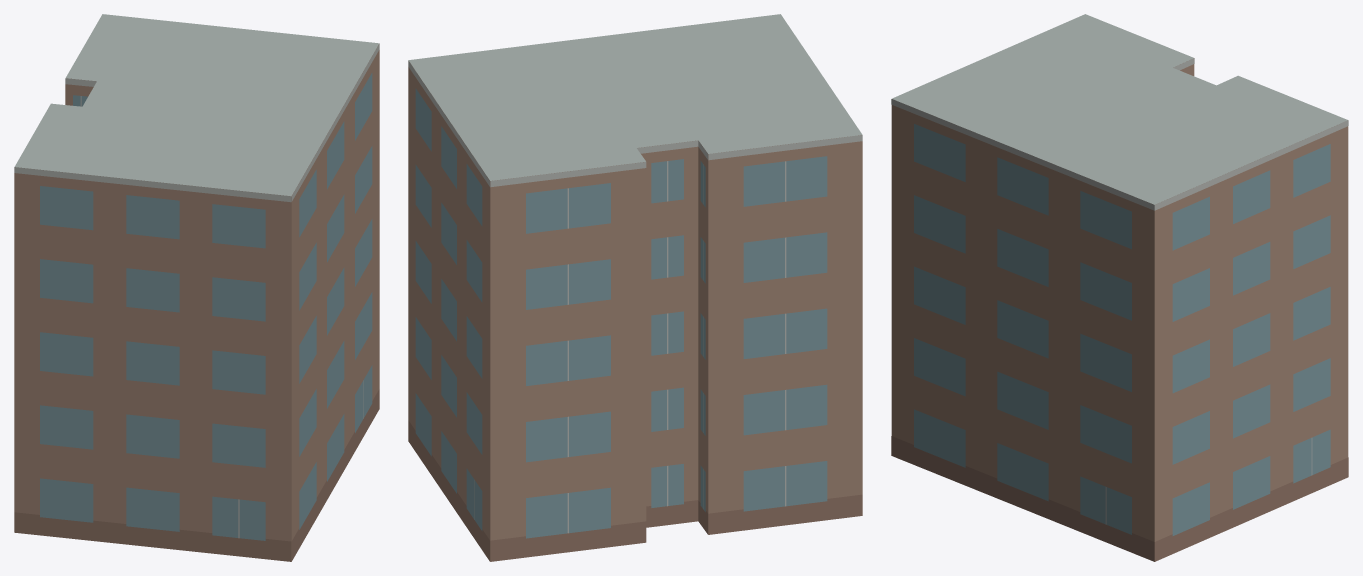
File: survey-upis-32845295.glb
3 renders of one model, left to right at view 1: azimuth 30°, elevation 25°; view 2: azimuth 150°, elevation 25°; view 3: azimuth 270°, elevation 25°, orthographic. The views are drawn at different scales.
Parts seen in each view (by area): view 1: survey-upis-32845295.tmp; view 2: survey-upis-32845295.tmp; view 3: survey-upis-32845295.tmp.
Part boxes in pixels (<box>): survey-upis-32845295.tmp: <box>14,14,379,561</box>; survey-upis-32845295.tmp: <box>408,14,862,561</box>; survey-upis-32845295.tmp: <box>891,14,1348,561</box>.
Size of the model in its own units: 16.98 by 14.8 by 17.17.
